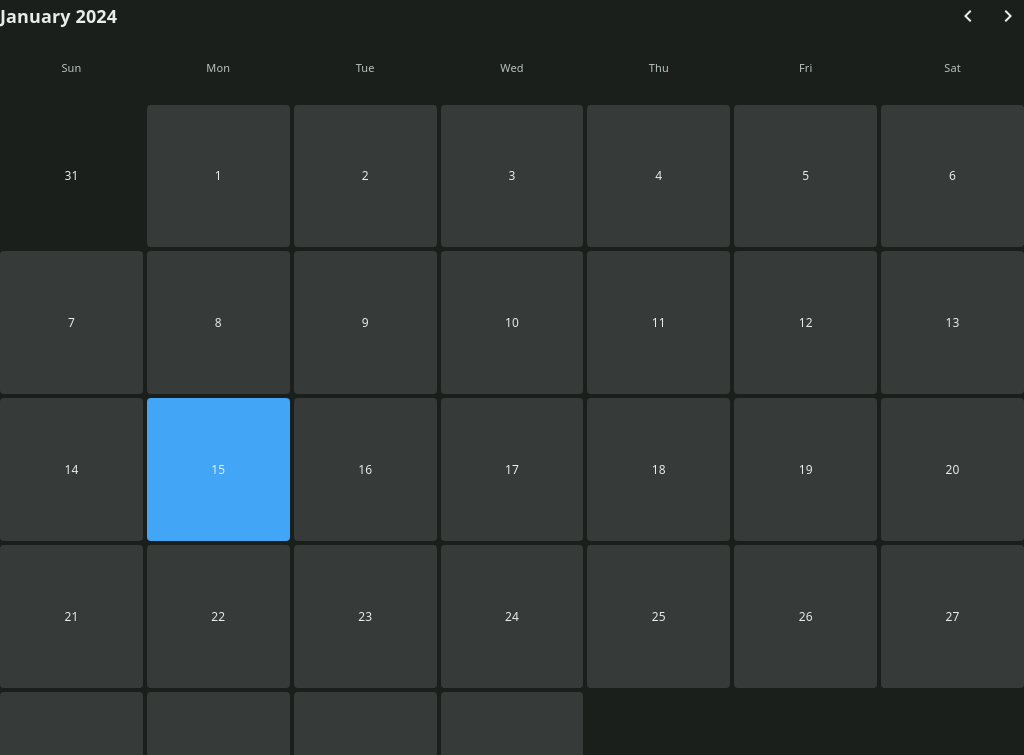
CalendarView › should handle day click for days with data
Click the text "20" at x=953, y=470, box [946,461,960,479]
(page scrolled)
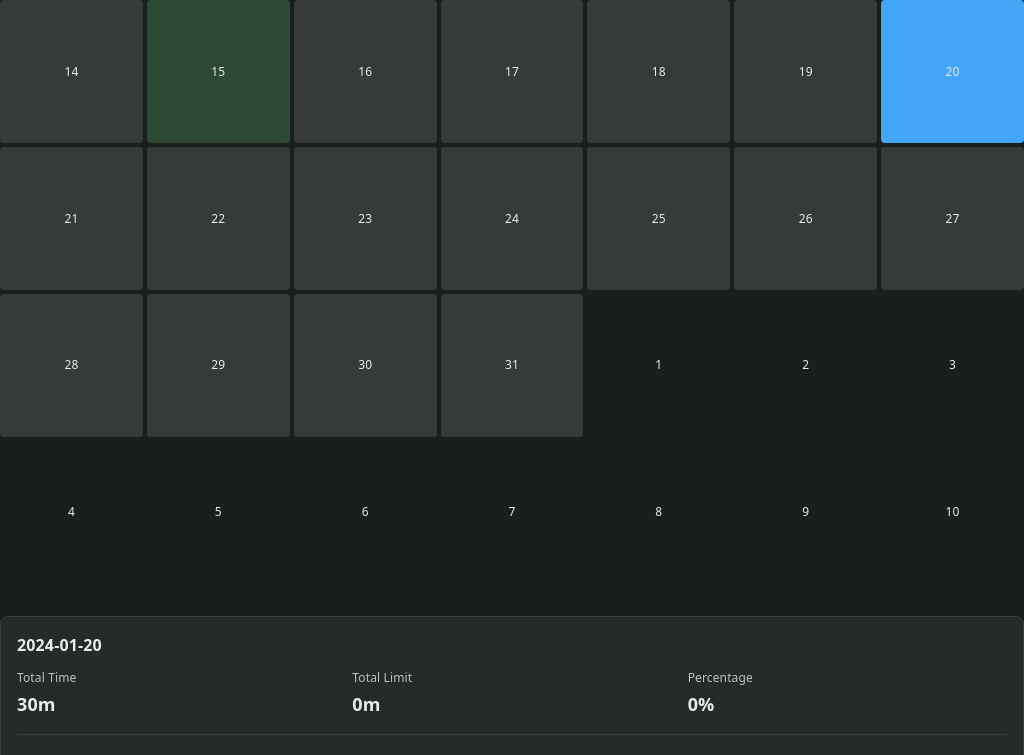
Check: the text "2024-01-20" is shown, box [17,634,102,656]
